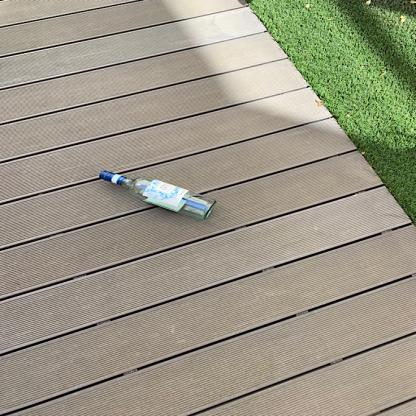trash: (95, 164, 219, 225)
